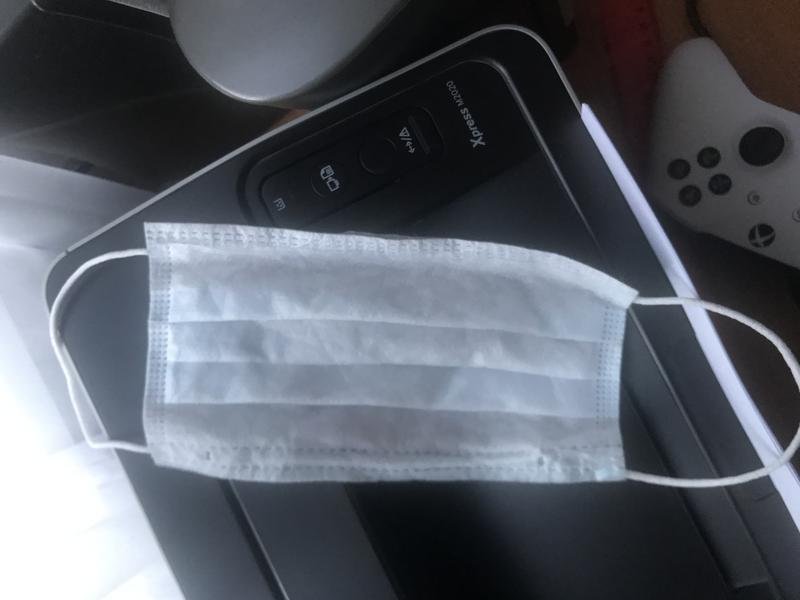medical_mask: (47, 229, 800, 491)
